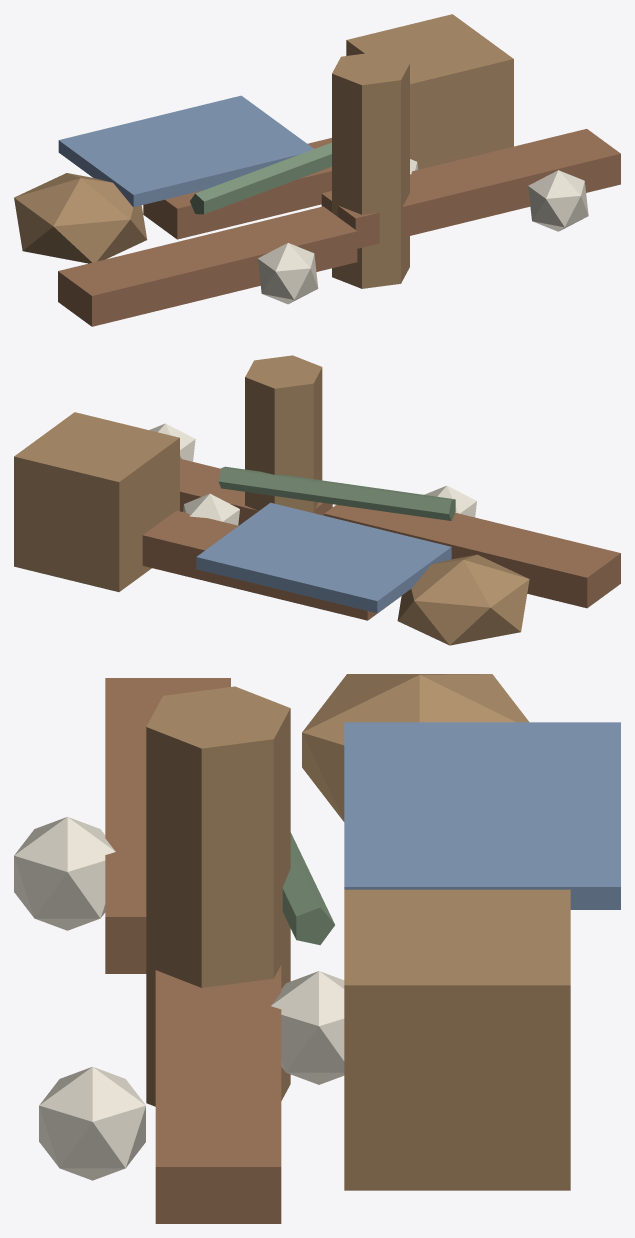
The model's file is wreck_debris.glb.
3 views of the same model, one above another, from view 1: azimuth 30°, elevation 25°; view 2: azimuth 150°, elevation 25°; view 3: azimuth 270°, elevation 25° (orthographic). The views are drawn at different scales.
Visible parts, largest first — view 1: plank_0.002, sail_scrap, mast_stub, crate, plank_2.002, barrel_half, plank_1.002, rope.002, barnacle_2, barnacle_0.001; view 2: crate, sail_scrap, plank_0.002, mast_stub, barrel_half, plank_1.002, rope.002, plank_2.002, barnacle_1.001, barnacle_0.001, barnacle_2; view 3: crate, sail_scrap, mast_stub, plank_2.002, plank_0.002, barrel_half, barnacle_2, barnacle_0.001, barnacle_1.001, rope.002.
Part boxes in pixels (x1,y1,x2,y2): plank_0.002: (58, 206, 357, 326); sail_scrap: (58, 95, 313, 207); mast_stub: (332, 51, 409, 288); crate: (346, 14, 513, 169); plank_2.002: (321, 129, 620, 248); barrel_half: (14, 173, 147, 263); plank_1.002: (143, 138, 331, 239); rope.002: (190, 142, 331, 214); barnacle_2: (528, 170, 588, 231); barnacle_0.001: (257, 243, 318, 304); crate: (14, 412, 179, 591); sail_scrap: (196, 502, 451, 613); plank_0.002: (324, 505, 620, 608); mast_stub: (245, 355, 322, 513); barrel_half: (397, 554, 529, 645); plank_1.002: (142, 510, 400, 620); rope.002: (218, 466, 455, 520); plank_2.002: (180, 458, 332, 525); barnacle_1.001: (183, 493, 239, 525); barnacle_0.001: (424, 485, 476, 517); barnacle_2: (149, 423, 195, 461); crate: (344, 889, 570, 1190); sail_scrap: (344, 722, 620, 909); mast_stub: (146, 686, 290, 1106); plank_2.002: (155, 965, 281, 1223); plank_0.002: (105, 678, 230, 973); barrel_half: (302, 674, 528, 821); barnacle_2: (39, 1066, 145, 1180); barnacle_0.001: (14, 817, 115, 930); barnacle_1.001: (271, 971, 344, 1084); rope.002: (282, 832, 334, 945).
Size of the model in its own units: 1.84 by 0.66 by 0.9651.
